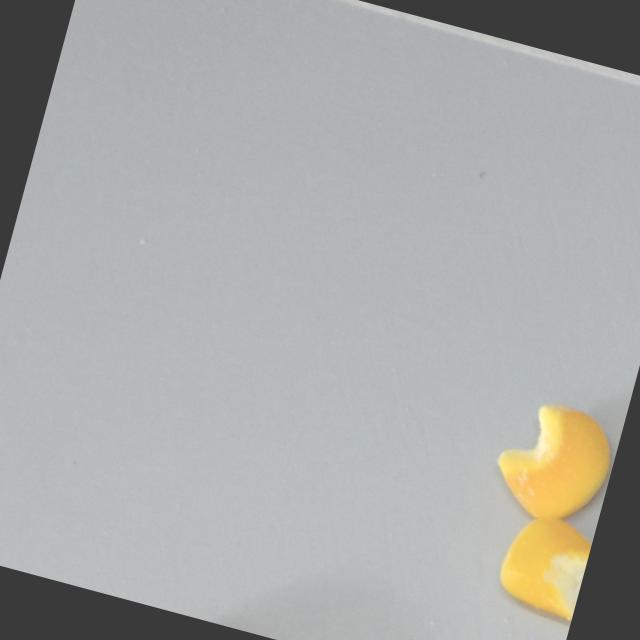no_canjicado: (484, 392, 621, 532), (491, 509, 595, 623)
